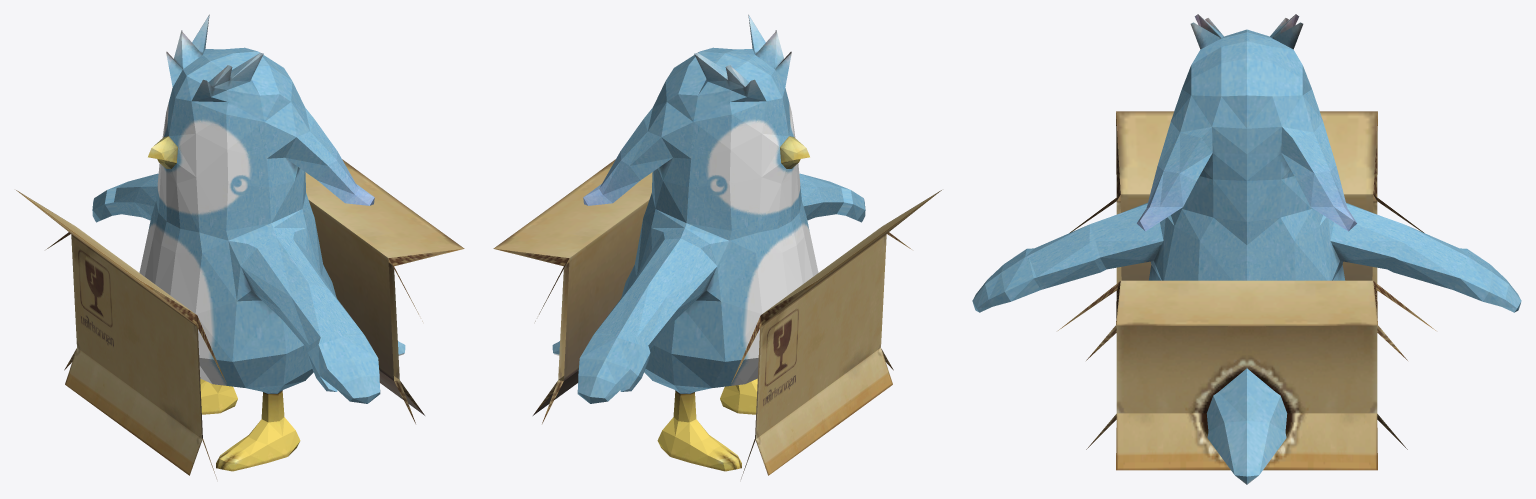
The model's file is Penguin_box.obj.
3 views of the same model, side by side, from view 1: azimuth 30°, elevation 25°; view 2: azimuth 150°, elevation 25°; view 3: azimuth 270°, elevation 25° (orthographic). The views are drawn at different scales.
Parts seen in each view (by area): view 1: Penguin_box_tri; view 2: Penguin_box_tri; view 3: Penguin_box_tri.
Boxes of the visible parts, x1,y1,x2,y2 form: Penguin_box_tri: (16, 14, 464, 478); Penguin_box_tri: (493, 14, 941, 478); Penguin_box_tri: (972, 14, 1521, 484).
Size of the model in its own units: 0.879 by 1.01 by 1.22.
Materials: 1 (1 with a texture image).
